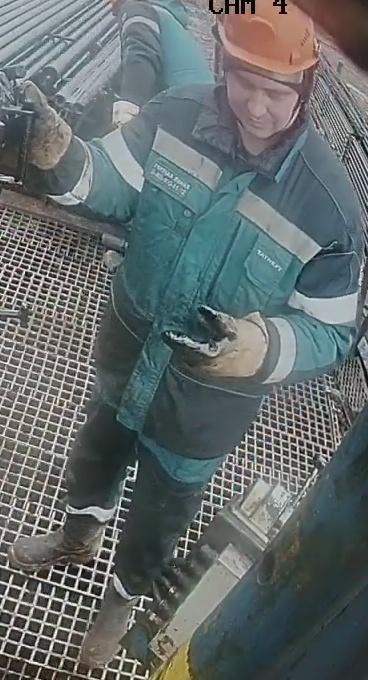gloves: (160, 304, 295, 385), (16, 80, 78, 177)
helmet: (210, 0, 321, 96)
vest: (91, 86, 365, 415)
